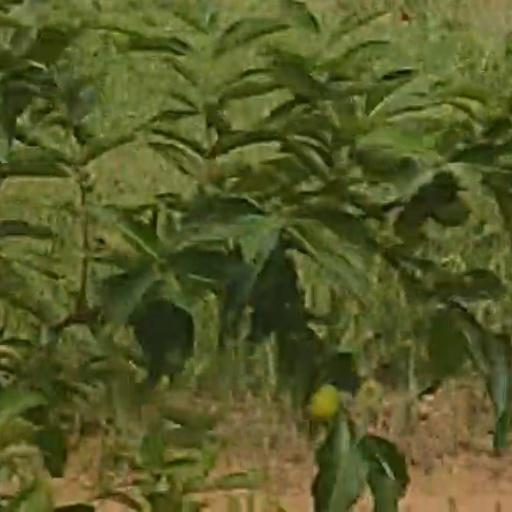acerola_verde: (311, 386, 337, 420)
